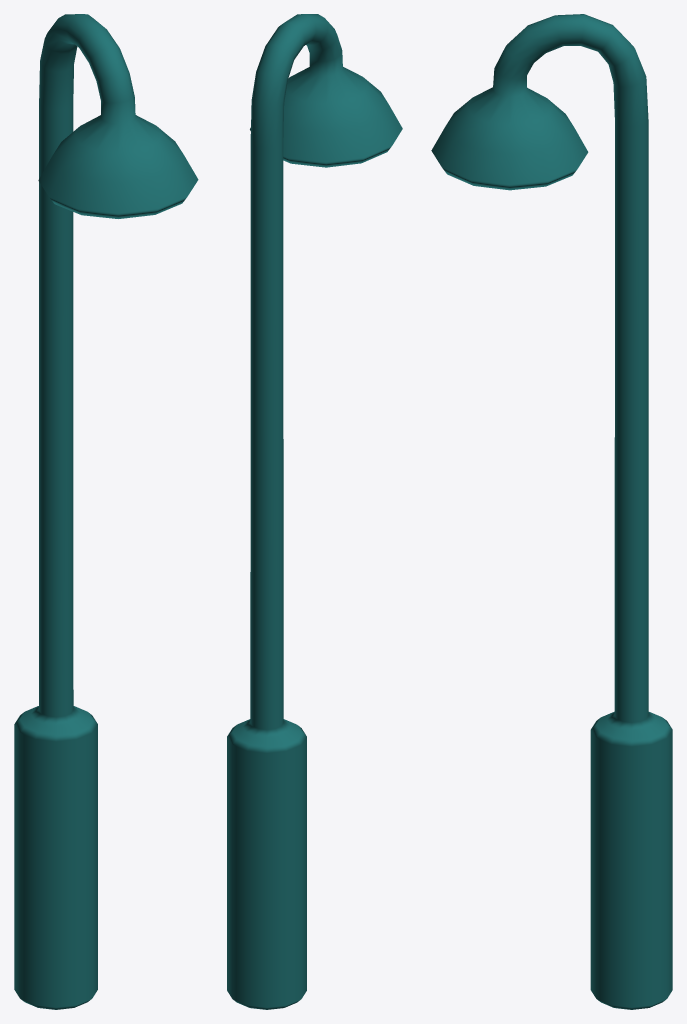
The model's file is SM_Streetlamp.fbx.
3 views of the same model, side by side, from view 1: azimuth 30°, elevation 25°; view 2: azimuth 150°, elevation 25°; view 3: azimuth 270°, elevation 25° (orthographic). The views are drawn at different scales.
Parts seen in each view (by area): view 1: Cylinder002; view 2: Cylinder002; view 3: Cylinder002.
Part boxes in pixels (x1,y1,x2,y2): Cylinder002: (14, 14, 198, 1009); Cylinder002: (227, 14, 402, 1009); Cylinder002: (431, 14, 672, 1009).
Size of the model in its own units: 43.96 by 302 by 67.52.
